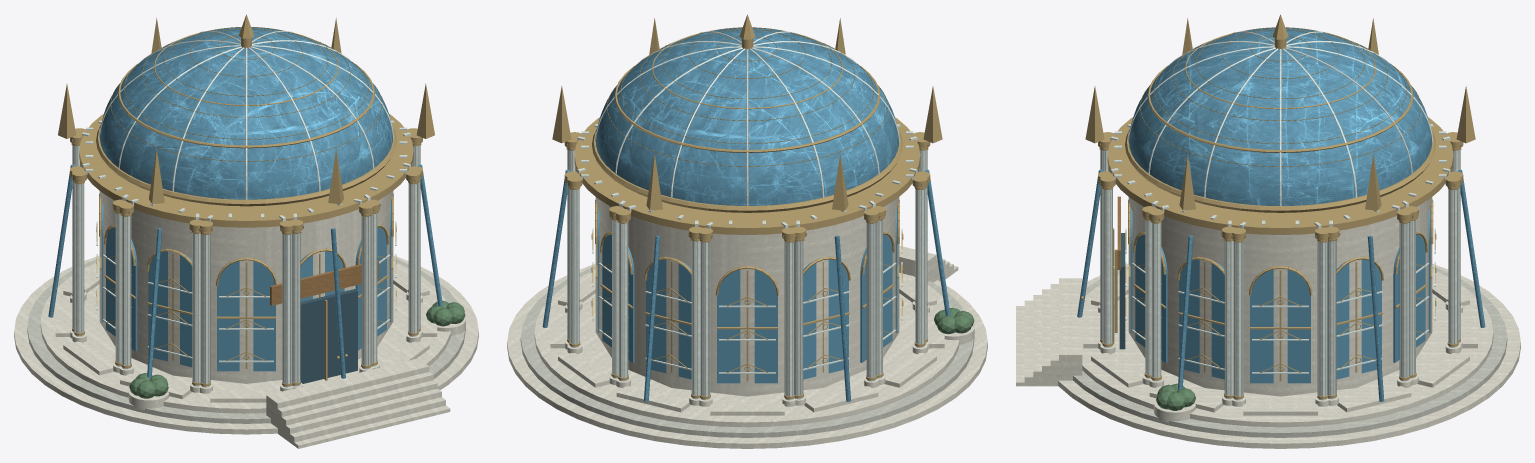
File: landmark_library-exterior-refined-v1.glb
3 views of the same model, side by side, from view 1: azimuth 30°, elevation 25°; view 2: azimuth 150°, elevation 25°; view 3: azimuth 270°, elevation 25° (orthographic). The views are drawn at different scales.
Visible parts, largest first — view 1: landmark_library_01_原有建筑轮廓与构件_EX_e3e2d3_grey_plaster_surface, landmark_library_01_原有建筑轮廓与构件_EX_619bb7_dark_rock_surface, landmark_library_01_原有建筑轮廓与构件_EX_bda572_plain_metal, landmark_library_01_原有建筑轮廓与构件_EX_e1ece5_grey_plaster_surface, landmark_library_03_窗面与灯具_EX_619bb7_plain_window, landmark_library_01_原有建筑轮廓与构件_EX_bccac4_plain_surface, landmark_library_01_原有建筑轮廓与构件_EX_c9ccc0_grey_plaster_surface, landmark_library_01_原有建筑轮廓与构件_EX_42616e_plain_surface, landmark_library_22_穹顶搭缝与顶珠_EX_a58c5c_plain_metal, landmark_library_04_石材绿植与陈设_EX_638666_plain_surface, landmark_library_01_原有建筑轮廓与构件_EX_a17c51_fine_grained_wood_su; view 2: landmark_library_01_原有建筑轮廓与构件_EX_e3e2d3_grey_plaster_surface, landmark_library_01_原有建筑轮廓与构件_EX_619bb7_dark_rock_surface, landmark_library_01_原有建筑轮廓与构件_EX_bda572_plain_metal, landmark_library_01_原有建筑轮廓与构件_EX_e1ece5_grey_plaster_surface, landmark_library_03_窗面与灯具_EX_619bb7_plain_window, landmark_library_01_原有建筑轮廓与构件_EX_bccac4_plain_surface, landmark_library_01_原有建筑轮廓与构件_EX_c9ccc0_grey_plaster_surface, landmark_library_22_穹顶搭缝与顶珠_EX_a58c5c_plain_metal, landmark_library_04_石材绿植与陈设_EX_638666_plain_surface; view 3: landmark_library_01_原有建筑轮廓与构件_EX_e3e2d3_grey_plaster_surface, landmark_library_01_原有建筑轮廓与构件_EX_619bb7_dark_rock_surface, landmark_library_01_原有建筑轮廓与构件_EX_bda572_plain_metal, landmark_library_01_原有建筑轮廓与构件_EX_e1ece5_grey_plaster_surface, landmark_library_03_窗面与灯具_EX_619bb7_plain_window, landmark_library_01_原有建筑轮廓与构件_EX_bccac4_plain_surface, landmark_library_01_原有建筑轮廓与构件_EX_c9ccc0_grey_plaster_surface, landmark_library_22_穹顶搭缝与顶珠_EX_a58c5c_plain_metal, landmark_library_04_石材绿植与陈设_EX_638666_plain_surface, landmark_library_01_原有建筑轮廓与构件_EX_42616e_plain_surface.
Part boxes in pixels (left/top/right/bottom): landmark_library_01_原有建筑轮廓与构件_EX_e3e2d3_grey_plaster_surface: left=14, top=191, right=478, bottom=448; landmark_library_01_原有建筑轮廓与构件_EX_619bb7_dark_rock_surface: left=48, top=27, right=442, bottom=378; landmark_library_01_原有建筑轮廓与构件_EX_bda572_plain_metal: left=58, top=14, right=434, bottom=386; landmark_library_01_原有建筑轮廓与构件_EX_e1ece5_grey_plaster_surface: left=73, top=30, right=419, bottom=387; landmark_library_03_窗面与灯具_EX_619bb7_plain_window: left=101, top=201, right=391, bottom=371; landmark_library_01_原有建筑轮廓与构件_EX_bccac4_plain_surface: left=72, top=145, right=420, bottom=386; landmark_library_01_原有建筑轮廓与构件_EX_c9ccc0_grey_plaster_surface: left=27, top=258, right=465, bottom=423; landmark_library_01_原有建筑轮廓与构件_EX_42616e_plain_surface: left=300, top=289, right=357, bottom=383; landmark_library_22_穹顶搭缝与顶珠_EX_a58c5c_plain_metal: left=110, top=27, right=382, bottom=161; landmark_library_04_石材绿植与陈设_EX_638666_plain_surface: left=129, top=300, right=465, bottom=398; landmark_library_01_原有建筑轮廓与构件_EX_a17c51_fine_grained_wood_su: left=270, top=260, right=378, bottom=305; landmark_library_01_原有建筑轮廓与构件_EX_e3e2d3_grey_plaster_surface: left=507, top=197, right=987, bottom=448; landmark_library_01_原有建筑轮廓与构件_EX_619bb7_dark_rock_surface: left=542, top=28, right=950, bottom=401; landmark_library_01_原有建筑轮廓与构件_EX_bda572_plain_metal: left=552, top=14, right=942, bottom=399; landmark_library_01_原有建筑轮廓与构件_EX_e1ece5_grey_plaster_surface: left=568, top=31, right=926, bottom=400; landmark_library_03_窗面与灯具_EX_619bb7_plain_window: left=597, top=208, right=897, bottom=383; landmark_library_01_原有建筑轮廓与构件_EX_bccac4_plain_surface: left=567, top=149, right=927, bottom=399; landmark_library_01_原有建筑轮廓与构件_EX_c9ccc0_grey_plaster_surface: left=520, top=266, right=974, bottom=437; landmark_library_22_穹顶搭缝与顶珠_EX_a58c5c_plain_metal: left=607, top=27, right=887, bottom=166; landmark_library_04_石材绿植与陈设_EX_638666_plain_surface: left=934, top=307, right=974, bottom=334; landmark_library_01_原有建筑轮廓与构件_EX_e3e2d3_grey_plaster_surface: left=1016, top=197, right=1520, bottom=448; landmark_library_01_原有建筑轮廓与构件_EX_619bb7_dark_rock_surface: left=1077, top=28, right=1485, bottom=401; landmark_library_01_原有建筑轮廓与构件_EX_bda572_plain_metal: left=1085, top=14, right=1475, bottom=399; landmark_library_01_原有建筑轮廓与构件_EX_e1ece5_grey_plaster_surface: left=1101, top=31, right=1459, bottom=400; landmark_library_03_窗面与灯具_EX_619bb7_plain_window: left=1130, top=207, right=1430, bottom=383; landmark_library_01_原有建筑轮廓与构件_EX_bccac4_plain_surface: left=1100, top=149, right=1460, bottom=399; landmark_library_01_原有建筑轮廓与构件_EX_c9ccc0_grey_plaster_surface: left=1073, top=266, right=1507, bottom=437; landmark_library_22_穹顶搭缝与顶珠_EX_a58c5c_plain_metal: left=1140, top=27, right=1420, bottom=166; landmark_library_04_石材绿植与陈设_EX_638666_plain_surface: left=1156, top=383, right=1195, bottom=410; landmark_library_01_原有建筑轮廓与构件_EX_42616e_plain_surface: left=1119, top=233, right=1125, bottom=349.
Size of the model in its own units: 25.08 by 19.22 by 26.34.
11 materials, 5 textured.
